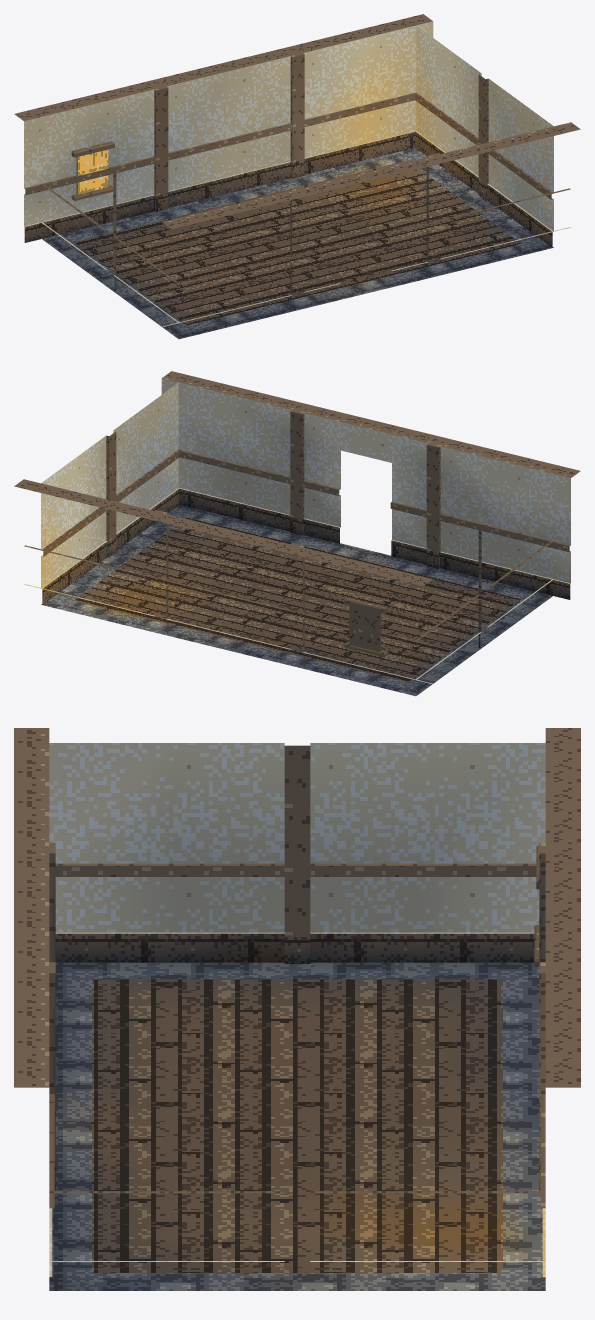
File: vlg.room.glb
3 views of the same model, one above another, from view 1: azimuth 30°, elevation 25°; view 2: azimuth 150°, elevation 25°; view 3: azimuth 270°, elevation 25° (orthographic). The views are drawn at different scales.
Visible parts, largest first — view 1: kit_shell_walls, kit_shell_floor, kit_fittings; view 2: kit_shell_walls, kit_shell_floor, kit_fittings; view 3: kit_shell_floor, kit_shell_walls.
Boxes of the visible parts, left/top/right/bottom form: kit_shell_walls: left=14, top=14, right=580, bottom=327; kit_shell_floor: left=42, top=148, right=553, bottom=339; kit_fittings: left=71, top=141, right=114, bottom=200; kit_shell_walls: left=14, top=371, right=580, bottom=684; kit_shell_floor: left=41, top=505, right=552, bottom=696; kit_fittings: left=343, top=597, right=388, bottom=657; kit_shell_floor: left=49, top=962, right=545, bottom=1290; kit_shell_walls: left=14, top=728, right=580, bottom=1276.
Bounding box in the file's own units: 12 × 3.4 × 8.
6 materials, 6 textured.
